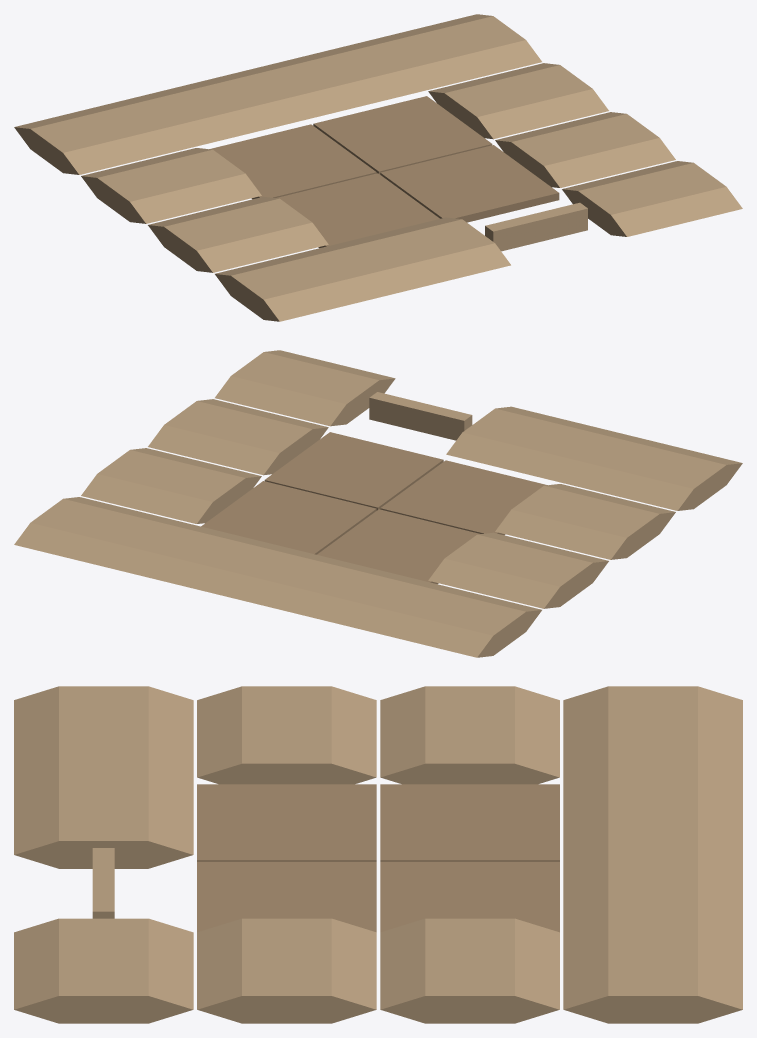
Rendered from building_granary_foundation.glb.
3 views of the same model, one above another, from view 1: azimuth 30°, elevation 25°; view 2: azimuth 150°, elevation 25°; view 3: azimuth 270°, elevation 25° (orthographic). The views are drawn at different scales.
Visible parts, largest first — view 1: building_granary_foundation; view 2: building_granary_foundation; view 3: building_granary_foundation.
Part boxes in pixels (box(x1,y1,x2,y2)): building_granary_foundation: box(14, 14, 742, 321); building_granary_foundation: box(14, 350, 742, 657); building_granary_foundation: box(14, 686, 742, 1023).
Size of the model in its own units: 4 by 0.18 by 3.98.
